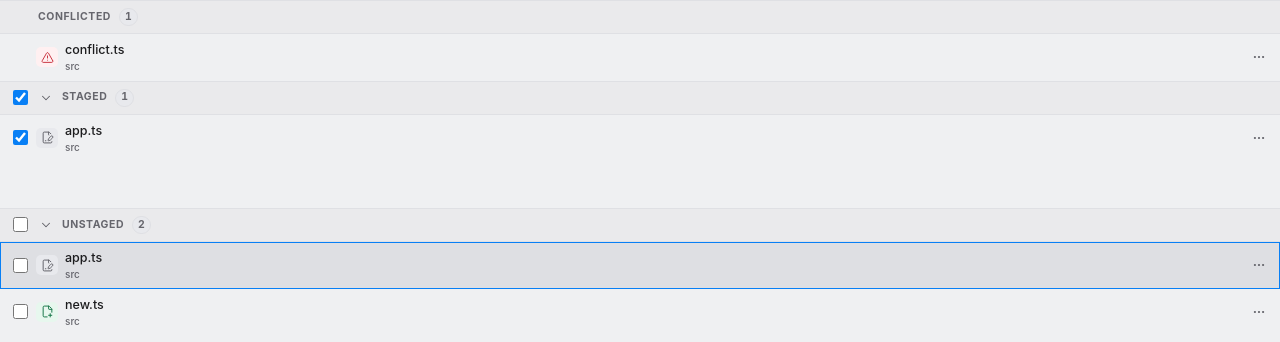
Test: DiffFileList staging controls › collapses and expands Staged and Unstaged from toggles between the checkbox and label
Expected: the heading "Staged 1" is shown, top-left (62, 89), bottom-right (134, 107)
Expected: the heading "Unstaged 2" is shown, top-left (62, 216), bottom-right (151, 234)
Click the button named "Collapse Staged" at (46, 98), box top-left (34, 86), bottom-right (58, 110)
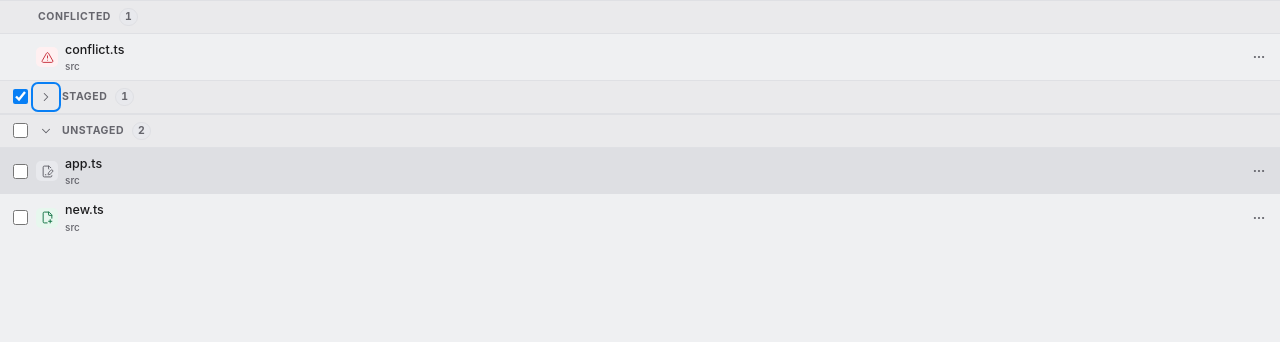
Expected: the checkbox named "Stage src/new.ts" is shown, top-left (12, 210), bottom-right (28, 225)
Expected: the button named "Expand Staged" is collapsed, top-left (34, 85), bottom-right (58, 109)
Click the button named "Collapse Unstaged" at (46, 131), box top-left (34, 119), bottom-right (58, 143)
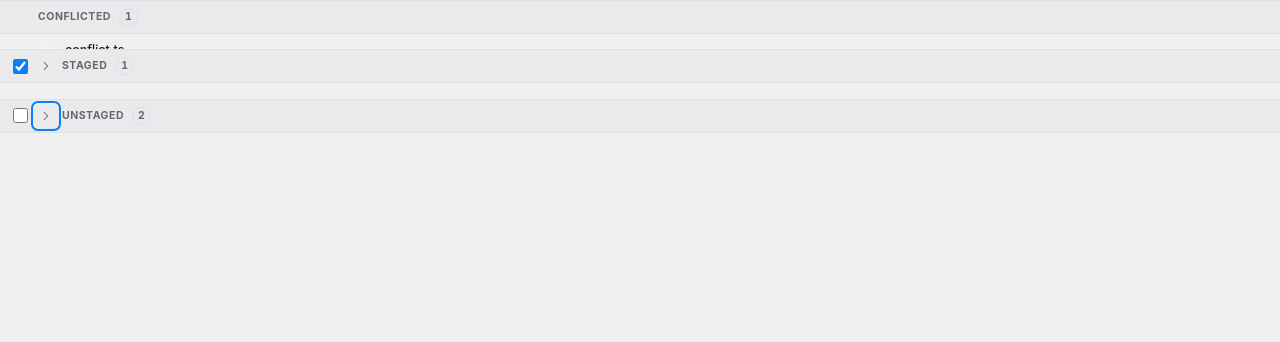
Expected: the button named "Expand Unstaged" is collapsed, top-left (34, 104), bottom-right (58, 128)
Click the button named "Expand Staged" at (46, 66), box top-left (34, 54), bottom-right (58, 78)
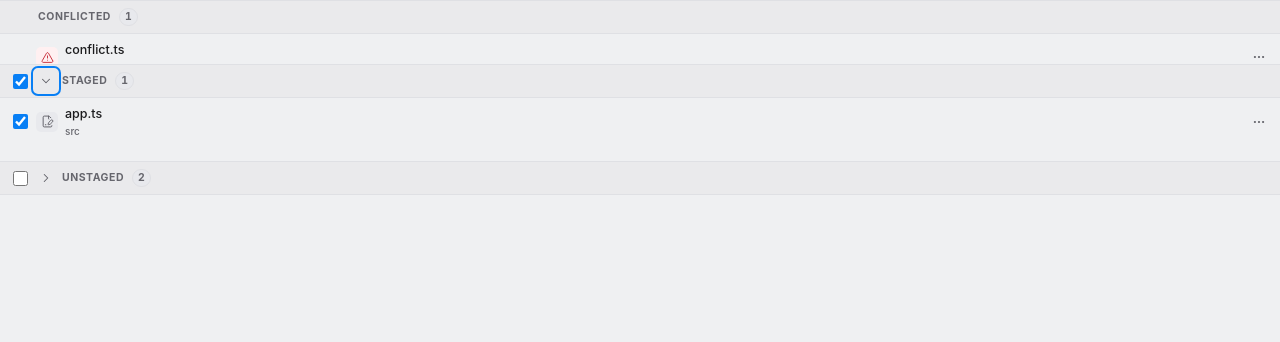
Expected: the checkbox named "Unstage src/app.ts" is shown, top-left (12, 114), bottom-right (28, 129)
